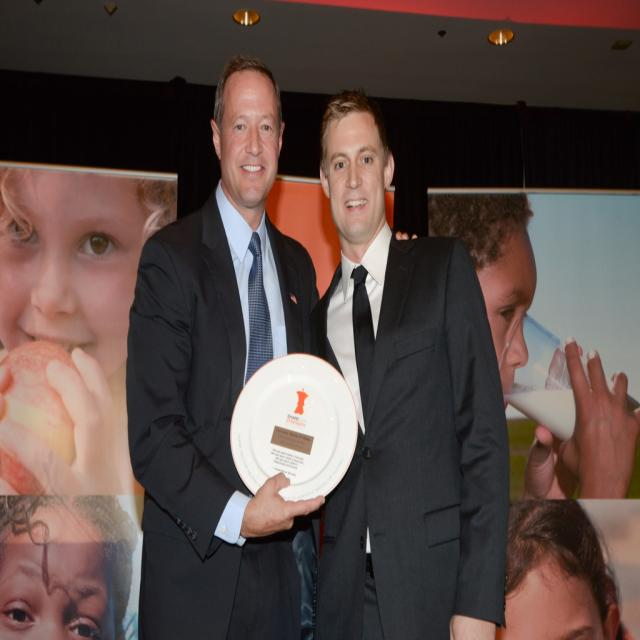non-organic waste: (238, 334, 355, 548)
